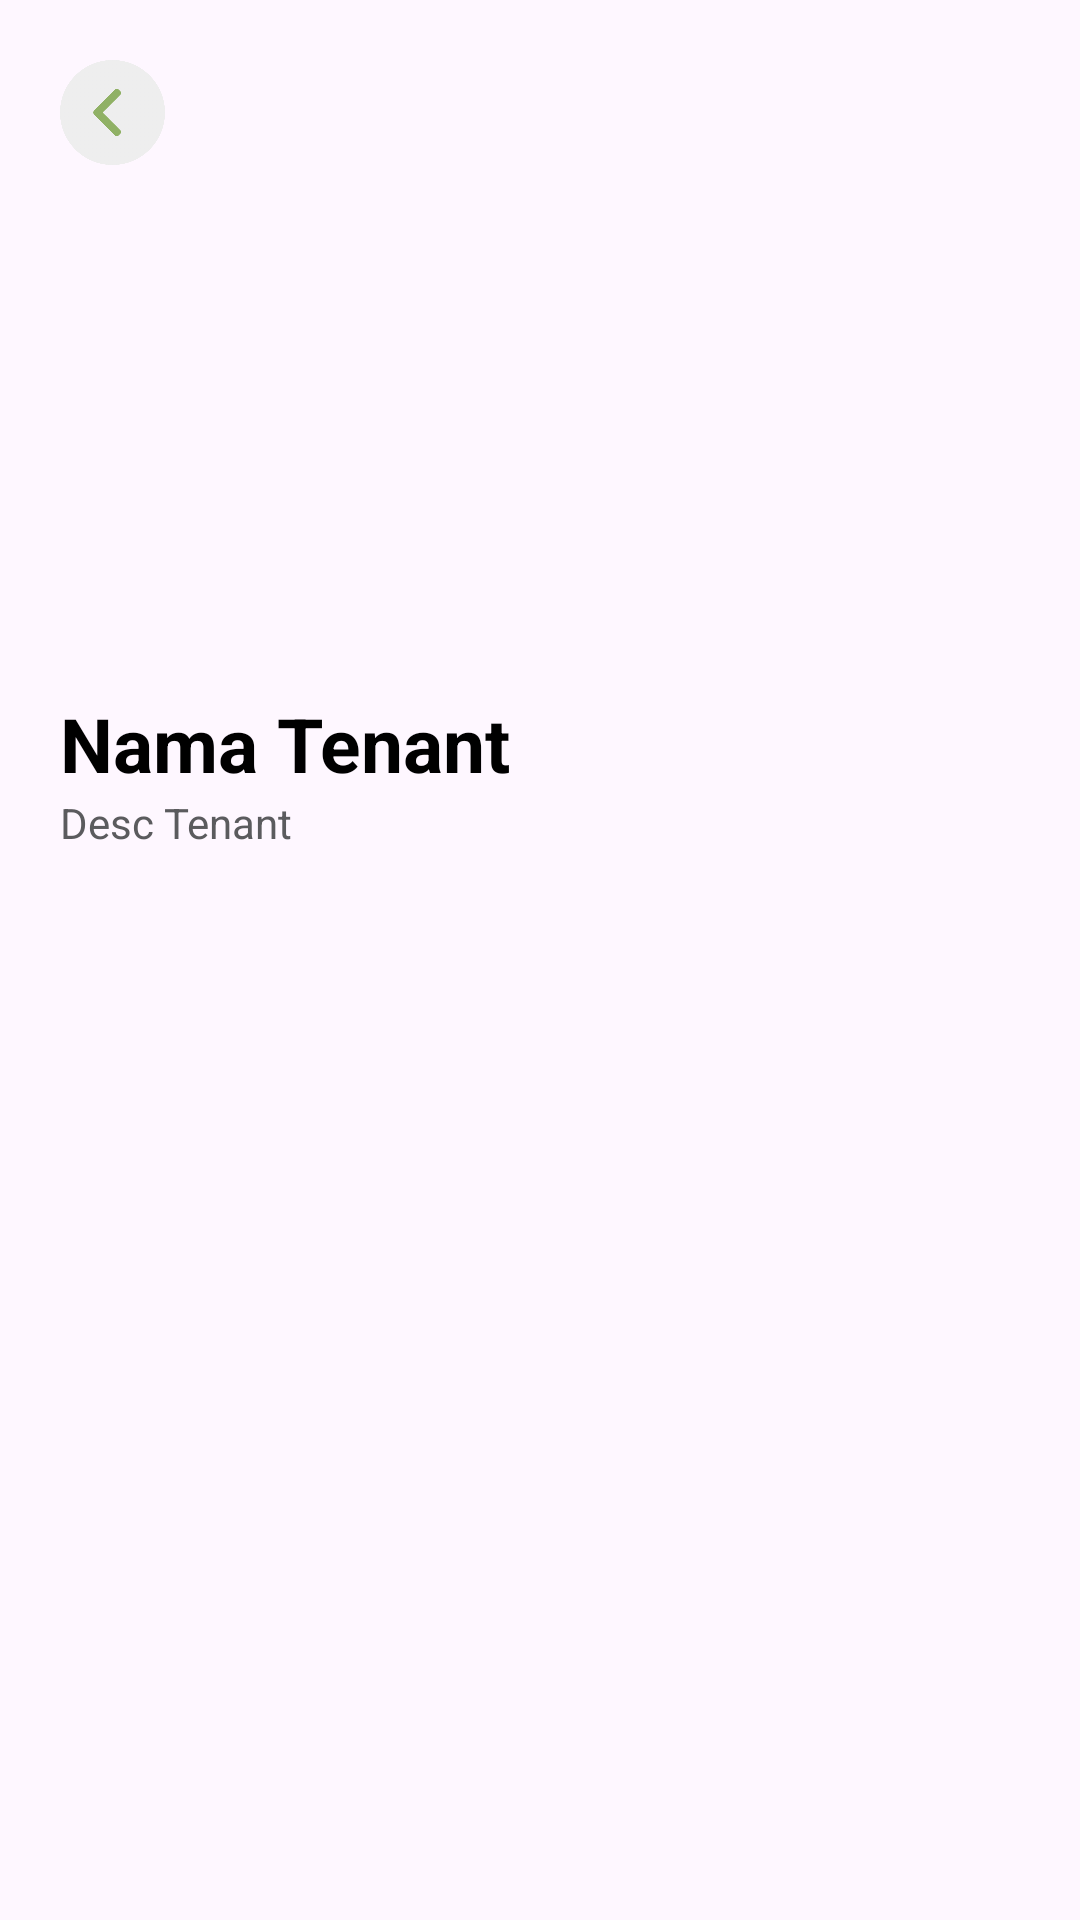

Where icons sit on this 1080*1920 app screen, as [left=x1, top=y1, right=x2, bottom=y2]:
prev: [left=60, top=60, right=165, bottom=165]
